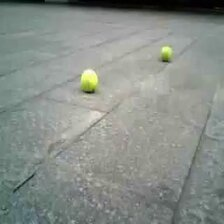tennis: (78, 67, 98, 92), (160, 47, 172, 60)
